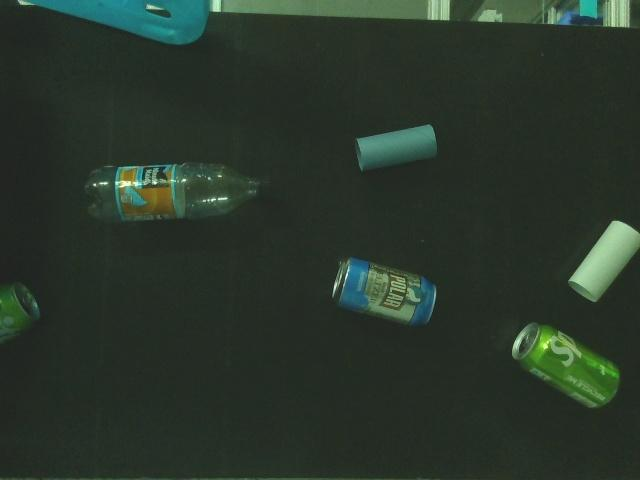cardboard: (565, 216, 640, 306), (354, 120, 443, 171)
metal: (508, 316, 626, 416), (326, 253, 444, 335), (0, 274, 45, 354)
plastic: (82, 160, 277, 227)
